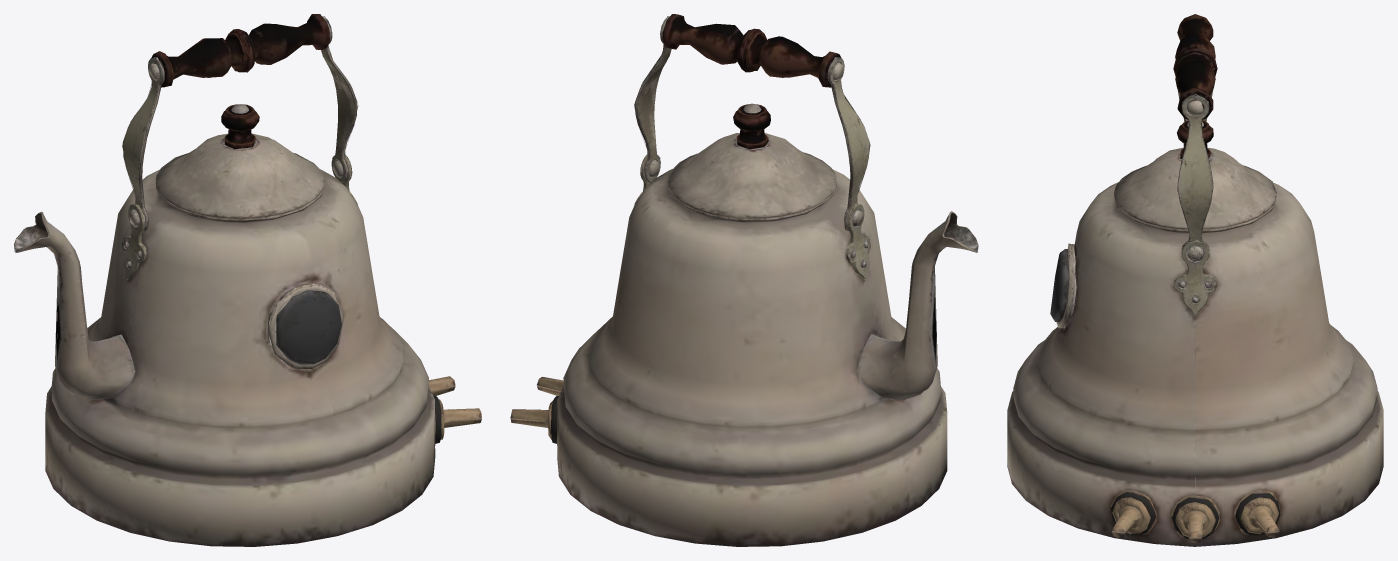
File: vintage_electric_kettle.glb
3 renders of one model, left to right at view 1: azimuth 30°, elevation 25°; view 2: azimuth 150°, elevation 25°; view 3: azimuth 270°, elevation 25°, orthographic. The views are drawn at different scales.
Parts seen in each view (by area): view 1: vintage_electric_kettle; view 2: vintage_electric_kettle; view 3: vintage_electric_kettle.
Part boxes in pixels (<box>): vintage_electric_kettle: <box>14,14,481,546</box>; vintage_electric_kettle: <box>510,14,978,546</box>; vintage_electric_kettle: <box>1007,14,1383,546</box>.
Bounding box in the file's own units: 0.3209 × 0.3054 × 0.2484.
Materials: 2 (2 with a texture image).
